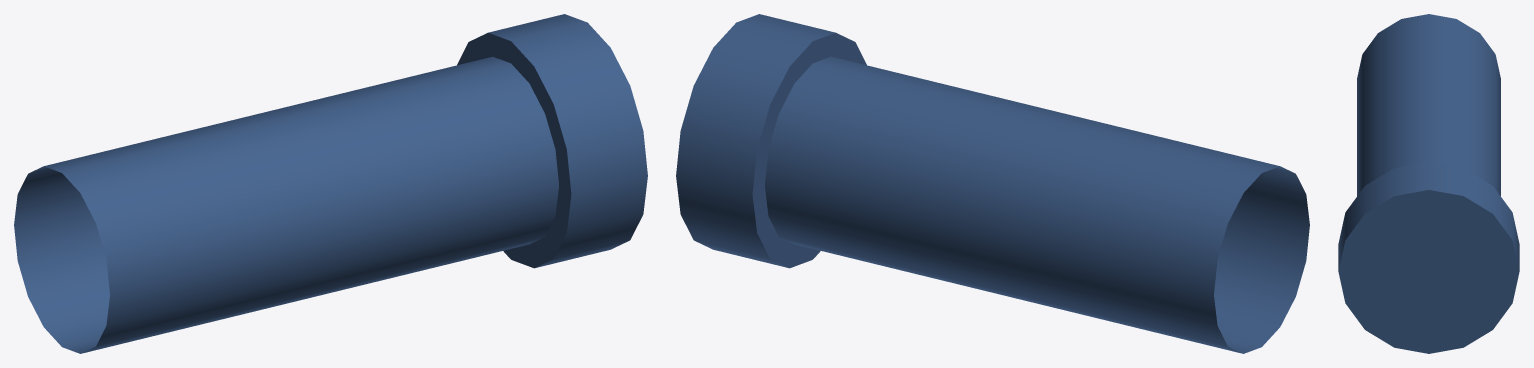
Rendered from BlueMetalDecorationSmallPipeConnector1.fbx.
The picture shows the model from 3 angles, left to right: view 1: azimuth 30°, elevation 25°; view 2: azimuth 150°, elevation 25°; view 3: azimuth 270°, elevation 25°; orthographic projection. The views are drawn at different scales.
Parts seen in each view (by area): view 1: BlueMetalDecorationSmallPipeConnector1; view 2: BlueMetalDecorationSmallPipeConnector1; view 3: BlueMetalDecorationSmallPipeConnector1.
Part boxes in pixels (x1,y1,x2,y2): BlueMetalDecorationSmallPipeConnector1: [14, 14, 647, 353]; BlueMetalDecorationSmallPipeConnector1: [676, 14, 1309, 353]; BlueMetalDecorationSmallPipeConnector1: [1338, 14, 1519, 353].
Size of the model in its own units: 190 by 75.33 by 75.33.
